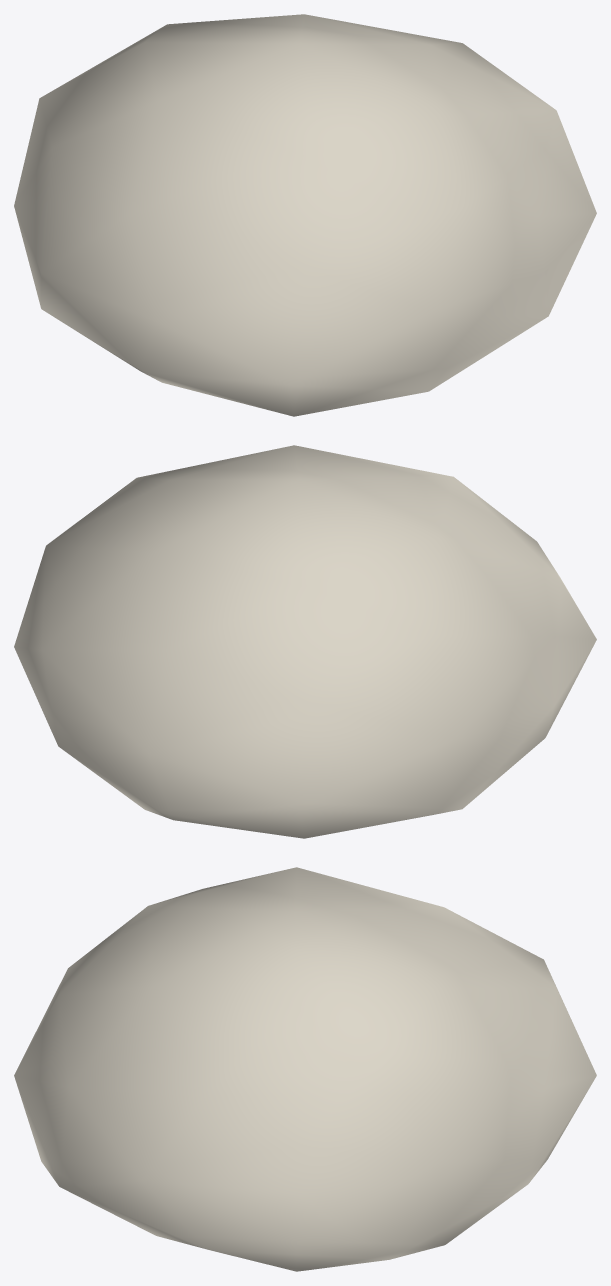
File: DustPuff.glb
3 renders of one model, top to bottom at view 1: azimuth 30°, elevation 25°; view 2: azimuth 150°, elevation 25°; view 3: azimuth 270°, elevation 25°, orthographic.
Parts seen in each view (by area): view 1: dust_puff; view 2: dust_puff; view 3: dust_puff.
Boxes of the visible parts, x1=… form: dust_puff: x1=14, y1=14, x2=596, y2=416; dust_puff: x1=14, y1=445, x2=596, y2=838; dust_puff: x1=14, y1=867, x2=596, y2=1271.
Bounding box in the file's own units: 0.6889 × 0.436 × 0.7009.
